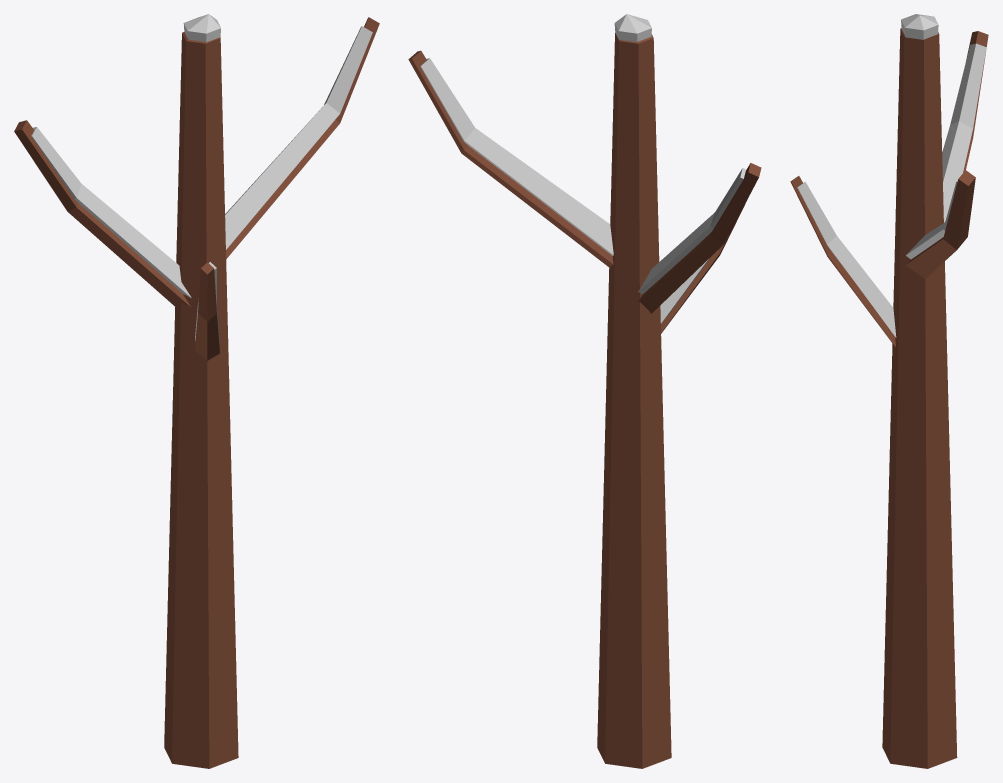
The model's file is Tree_35_winter_vc.fbx.
The picture shows the model from 3 angles, left to right: view 1: azimuth 30°, elevation 25°; view 2: azimuth 150°, elevation 25°; view 3: azimuth 270°, elevation 25°; orthographic projection.
Parts seen in each view (by area): view 1: Tree_35_winter_vc; view 2: Tree_35_winter_vc; view 3: Tree_35_winter_vc.
Part boxes in pixels (box(x1,y1,x2,y2)): Tree_35_winter_vc: box(14, 14, 379, 768); Tree_35_winter_vc: box(408, 14, 761, 768); Tree_35_winter_vc: box(790, 14, 988, 768).
Size of the model in its own units: 264 by 519 by 126.
